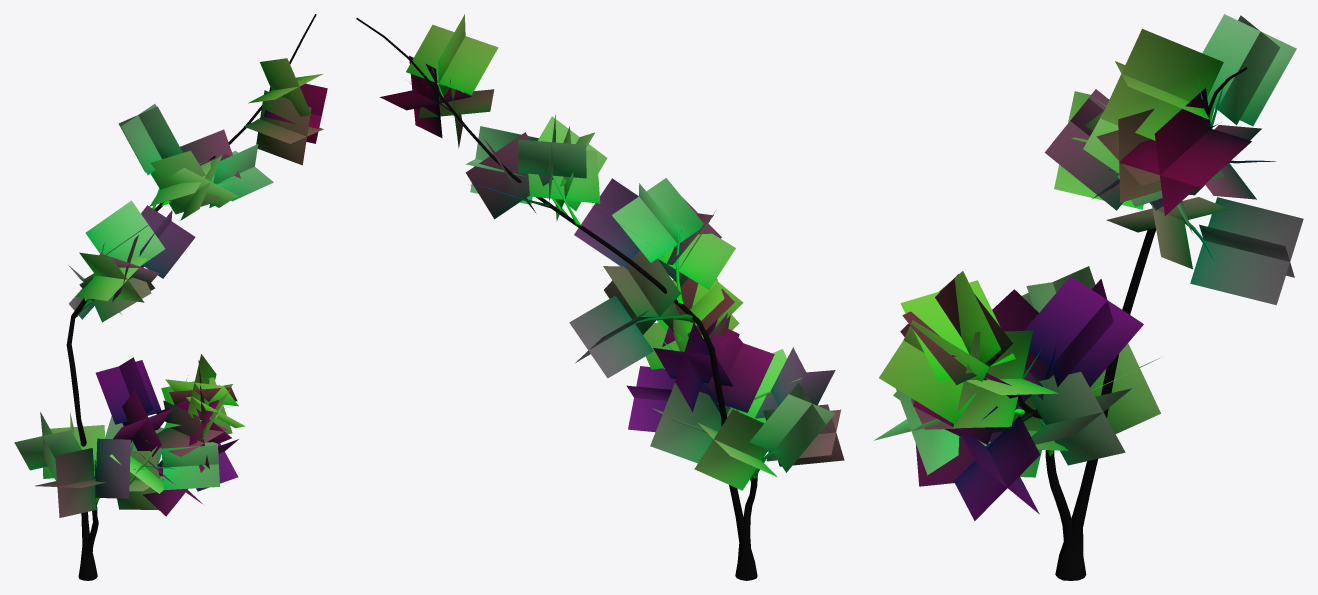
File: M_P5_Tree_10.fbx
The picture shows the model from 3 angles, left to right: view 1: azimuth 30°, elevation 25°; view 2: azimuth 150°, elevation 25°; view 3: azimuth 270°, elevation 25°; orthographic projection. The views are drawn at different scales.
Parts seen in each view (by area): view 1: Tree_10; view 2: Tree_10; view 3: Tree_10.
Part boxes in pixels (bbox=[...]): Tree_10: bbox=[14, 14, 327, 580]; Tree_10: bbox=[356, 14, 844, 580]; Tree_10: bbox=[874, 14, 1303, 580].
Bounding box in the file's own units: 571 × 699 × 374.
